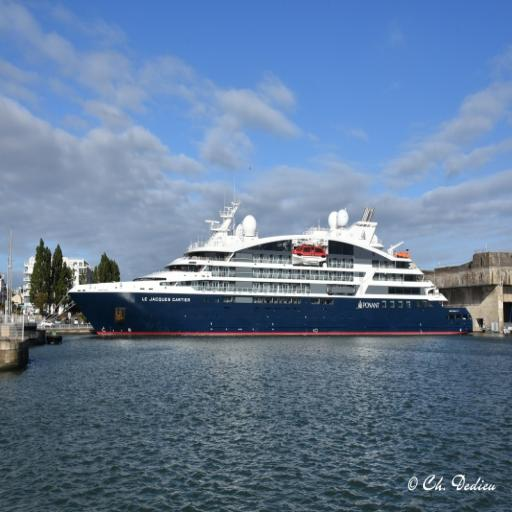cruises: (68, 201, 476, 344)
